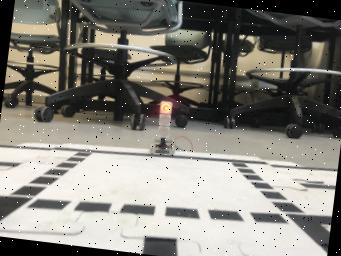street: (0, 145, 337, 256), (0, 145, 337, 256), (0, 145, 337, 256), (0, 145, 337, 256), (0, 145, 337, 256), (0, 145, 337, 256)
traffic_light: (149, 100, 175, 155), (149, 100, 175, 155), (149, 100, 175, 155), (149, 100, 175, 155), (149, 100, 175, 155), (149, 100, 175, 155)
